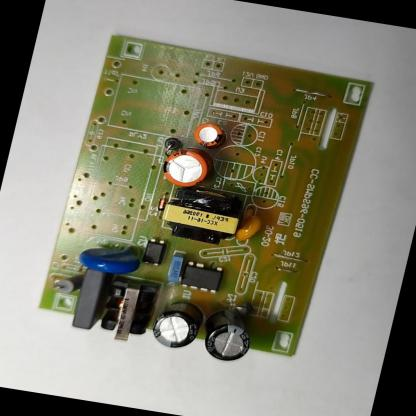Cap1: (160, 146, 212, 190)
Cap2: (190, 120, 227, 150)
Cap3: (148, 297, 207, 353)
Cap4: (198, 308, 258, 364)
MOSFET: (179, 260, 225, 294)
Mov: (76, 237, 144, 277)
Resistor: (51, 271, 83, 296)
Transformer: (156, 184, 246, 247), (96, 276, 160, 344)
